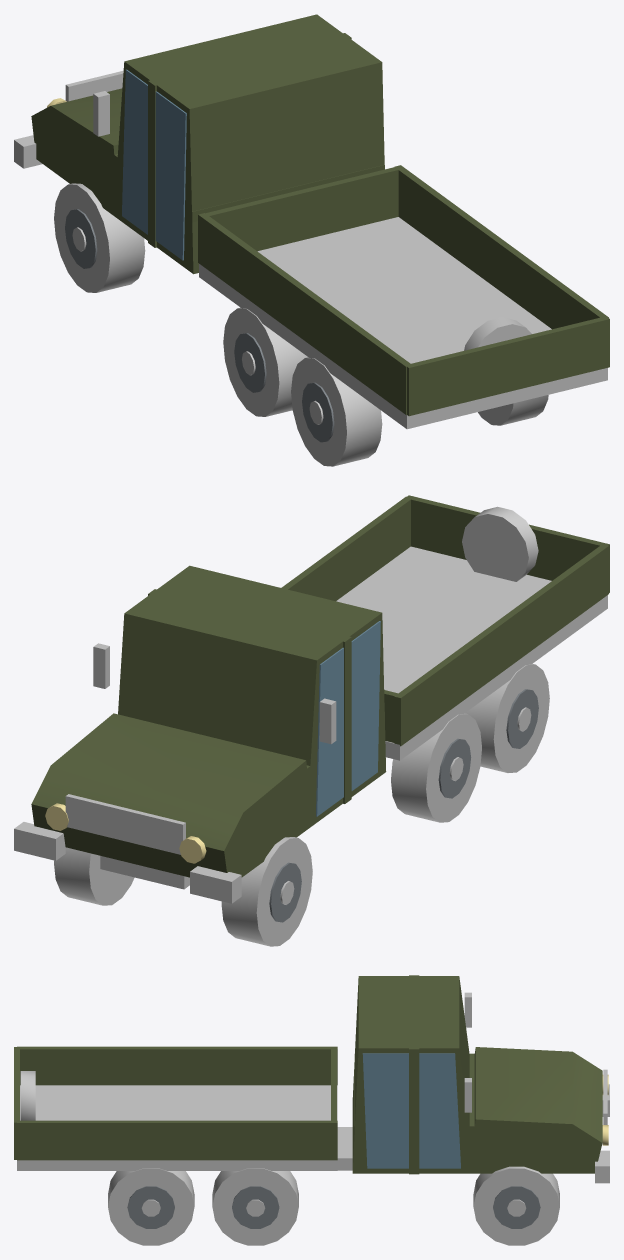
The model's file is ural_defender.obj.
3 views of the same model, one above another, from view 1: azimuth 30°, elevation 25°; view 2: azimuth 150°, elevation 25°; view 3: azimuth 270°, elevation 25° (orthographic). The views are drawn at different scales.
Parts seen in each view (by area): view 1: model; view 2: model; view 3: model.
Boxes of the visible parts, x1,y1,x2,y2 form: model: (14, 14, 609, 466); model: (14, 495, 609, 946); model: (14, 975, 609, 1245).
Size of the model in its own units: 2.84 by 2.89 by 7.99.
